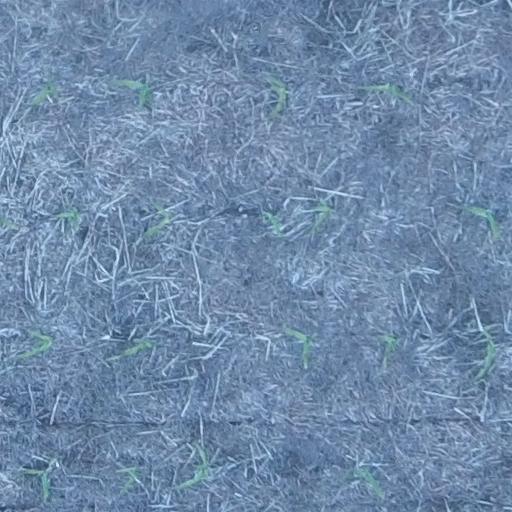planta: (174, 441, 212, 491), (106, 76, 156, 110), (458, 203, 502, 240), (279, 324, 316, 367), (13, 326, 55, 361), (107, 335, 159, 363), (15, 465, 52, 504), (141, 198, 175, 239), (473, 326, 498, 381), (359, 80, 413, 105), (262, 73, 290, 120), (27, 74, 61, 109), (351, 464, 385, 499), (307, 198, 335, 234), (53, 201, 84, 230), (259, 209, 286, 239), (378, 330, 400, 361), (118, 463, 140, 494)
